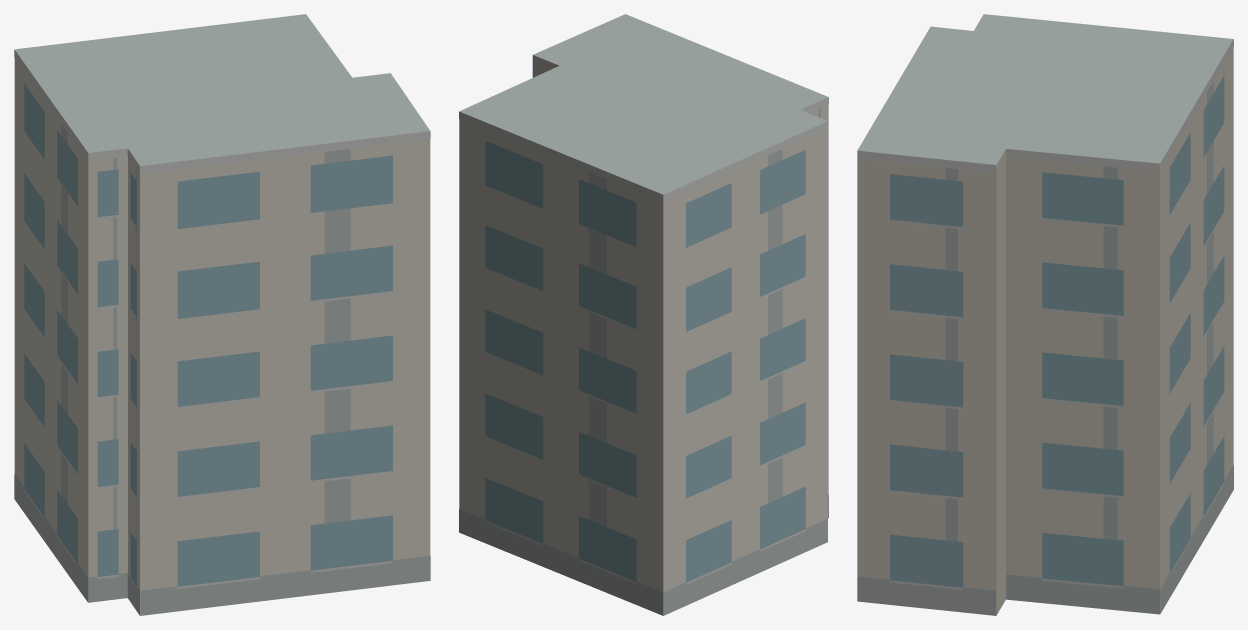
Rendered from survey-upis-32721542.glb.
3 renders of one model, left to right at view 1: azimuth 30°, elevation 25°; view 2: azimuth 150°, elevation 25°; view 3: azimuth 270°, elevation 25°, orthographic. The views are drawn at different scales.
Parts seen in each view (by area): view 1: survey-upis-32721542.tmp; view 2: survey-upis-32721542.tmp; view 3: survey-upis-32721542.tmp.
Boxes of the visible parts, bbox=[...] form: survey-upis-32721542.tmp: bbox=[14, 14, 430, 615]; survey-upis-32721542.tmp: bbox=[459, 14, 828, 615]; survey-upis-32721542.tmp: bbox=[857, 14, 1233, 615].
Size of the model in its own units: 9.75 by 13.55 by 10.26.
